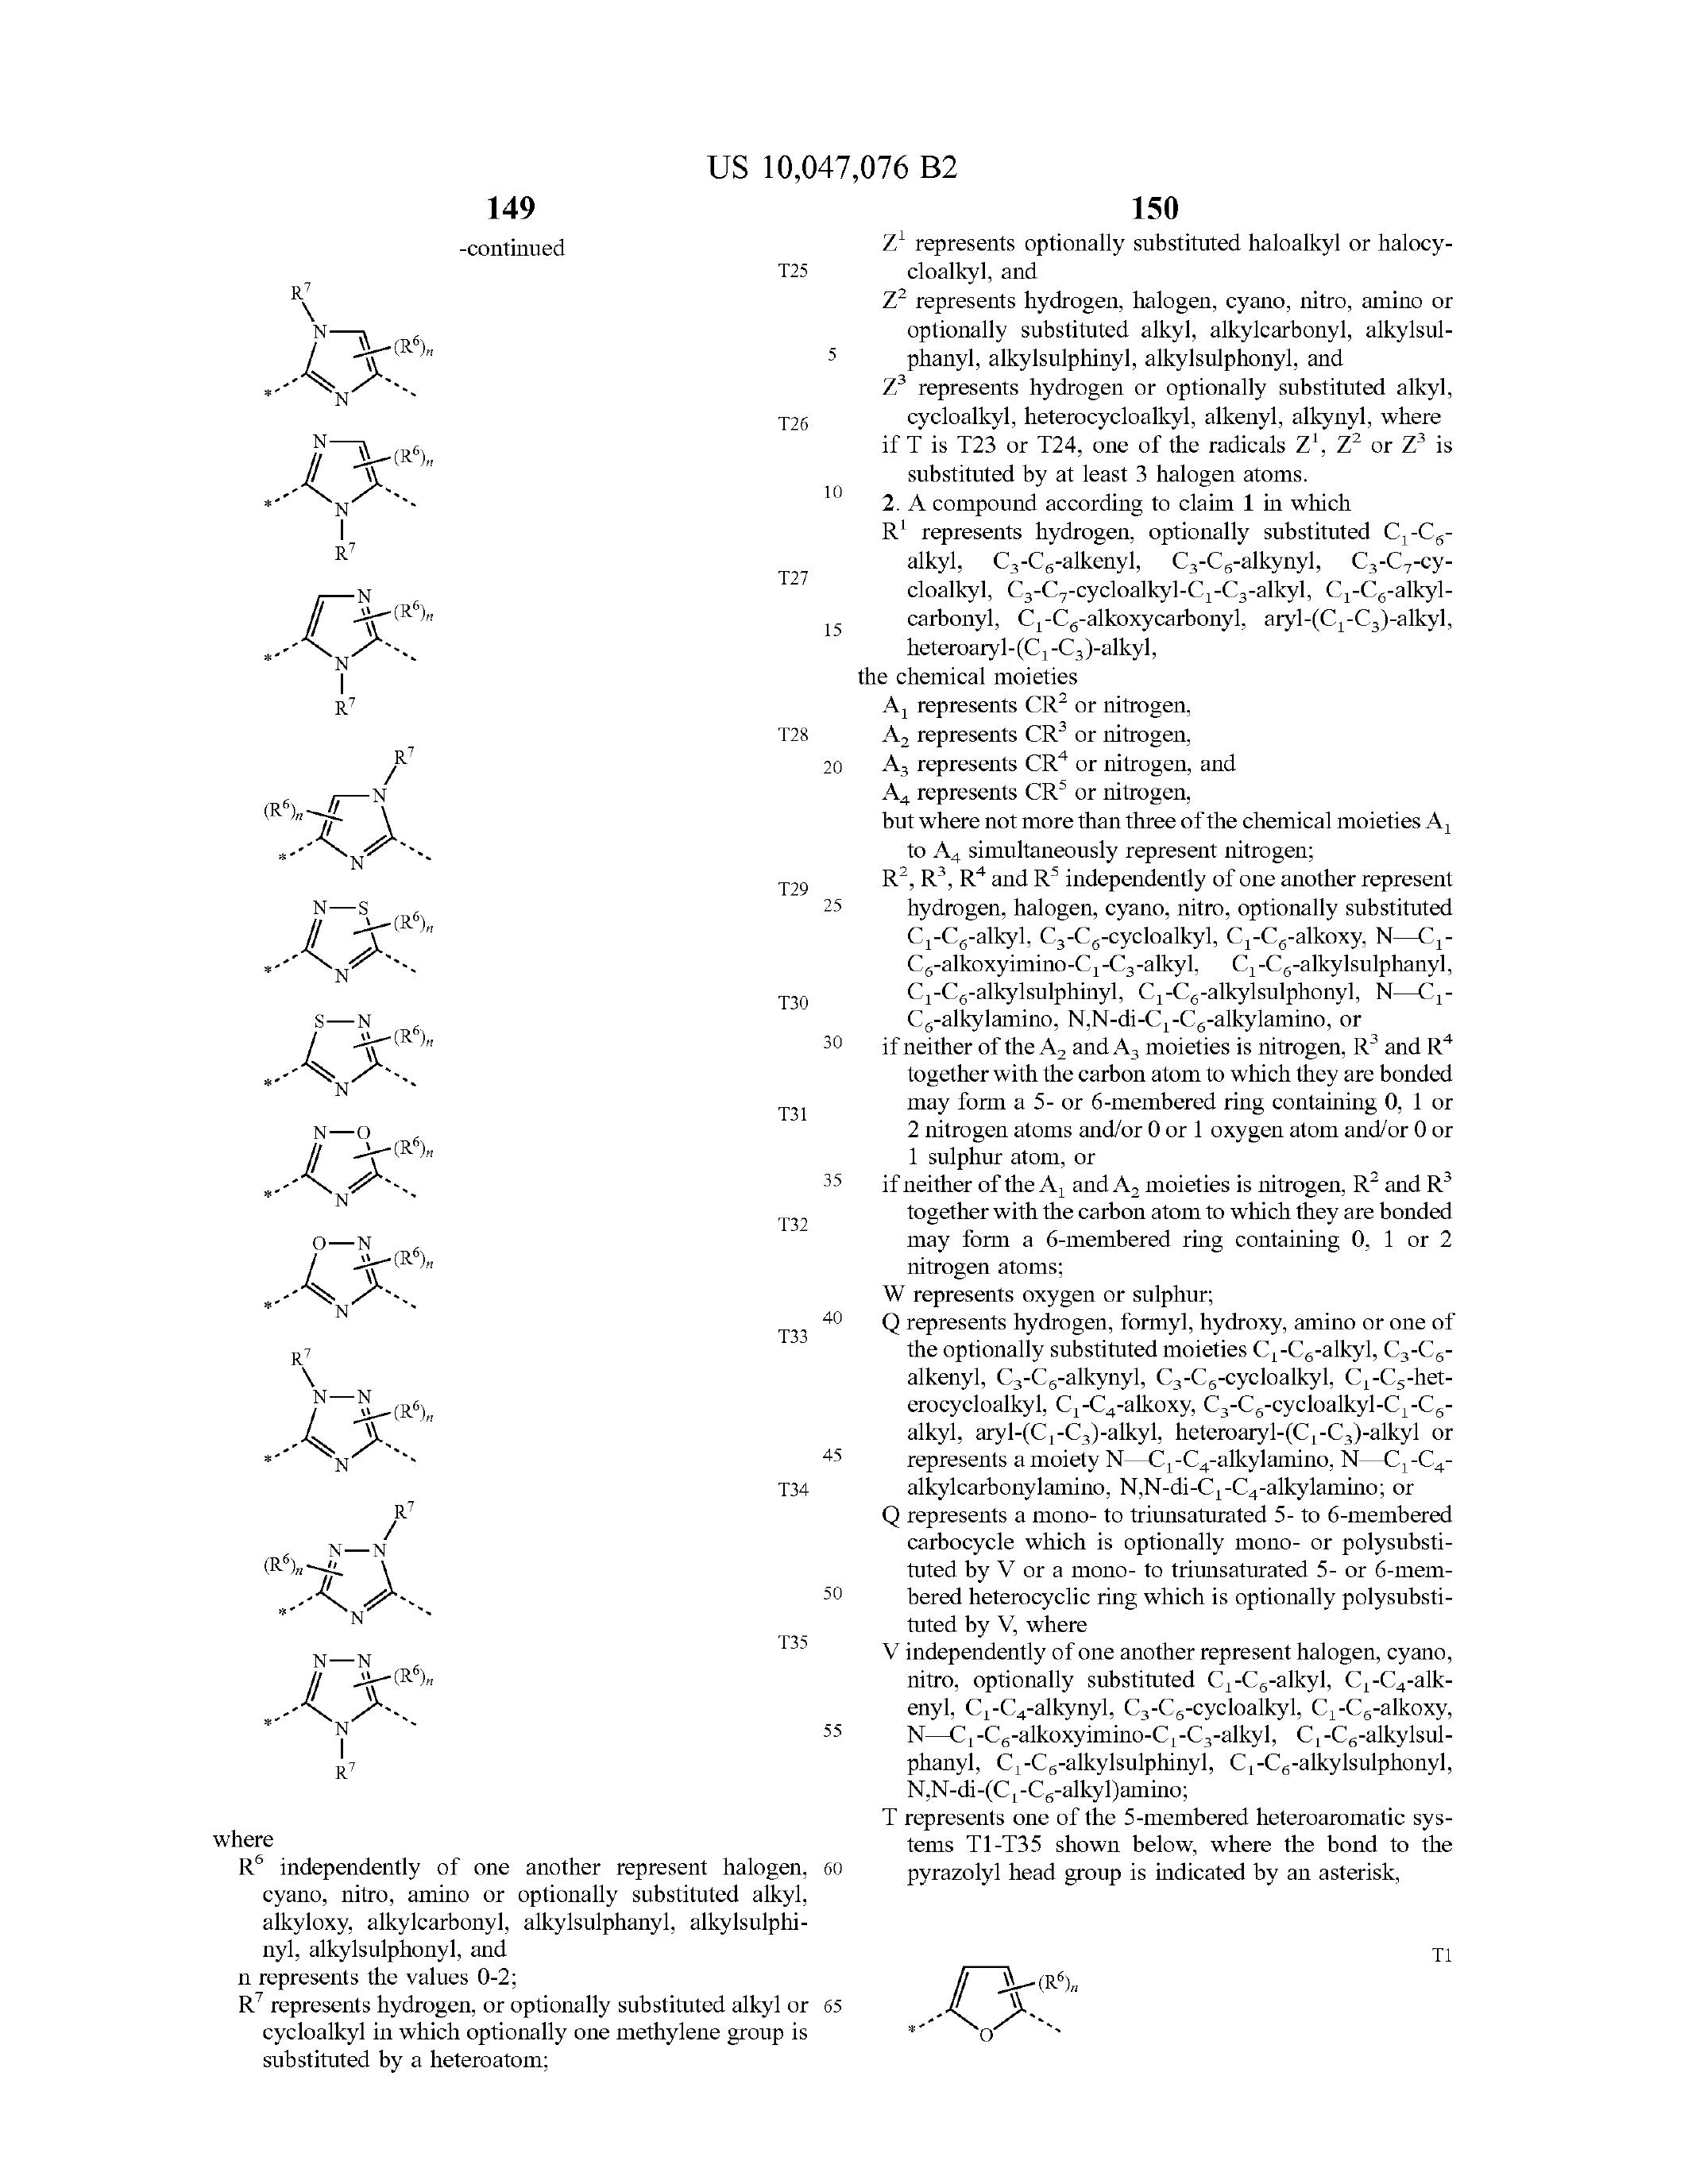intermediates: (227, 230, 509, 1595)
